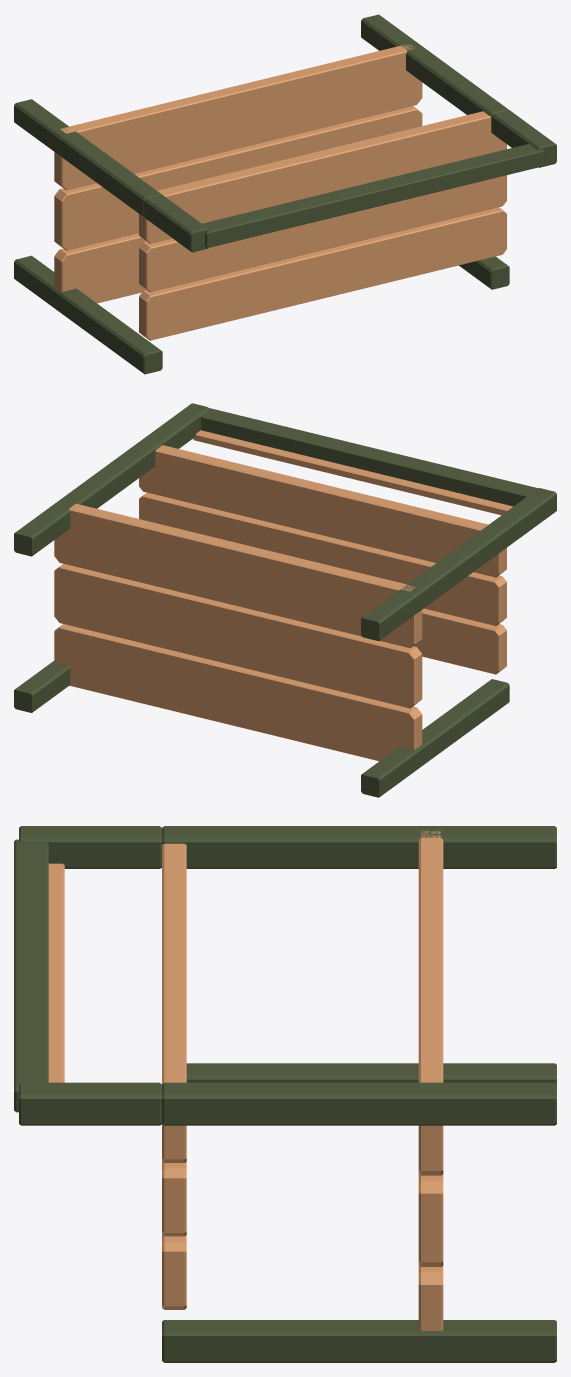
Rendered from fixture_12_garden_display.glb.
The picture shows the model from 3 angles, top to bottom: view 1: azimuth 30°, elevation 25°; view 2: azimuth 150°, elevation 25°; view 3: azimuth 270°, elevation 25°; orthographic projection. The views are drawn at different scales.
Visible parts, largest first — view 1: fixture_12_garden_display; view 2: fixture_12_garden_display; view 3: fixture_12_garden_display.
Part boxes in pixels (left/top/right/bottom): fixture_12_garden_display: left=14, top=14, right=556, bottom=374; fixture_12_garden_display: left=14, top=403, right=556, bottom=797; fixture_12_garden_display: left=14, top=826, right=556, bottom=1362.
Size of what is drawn, in the model's own units: 1.3 by 0.6 by 1.1.
